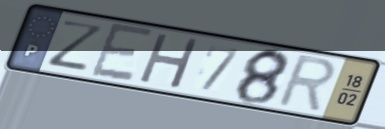7: (196, 43, 241, 93)
8: (233, 47, 293, 107)
E: (87, 20, 157, 84)
H: (135, 30, 203, 91)
R: (272, 52, 339, 116)
Z: (46, 17, 109, 73)
